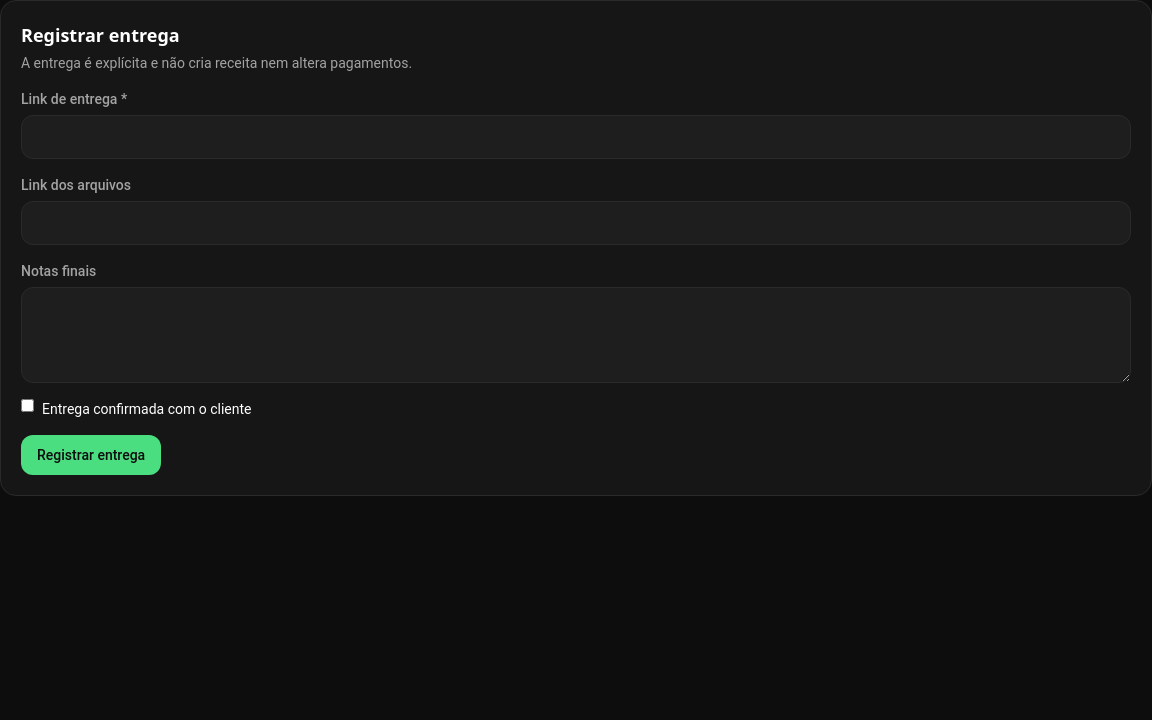
Test: ProjectDeliveryPanel › exige link de entrega e confirmação explícita
This screenshot has width=1152, height=720.
Click the button "Registrar entrega".
click(91, 455)  # box [21,435,161,475]
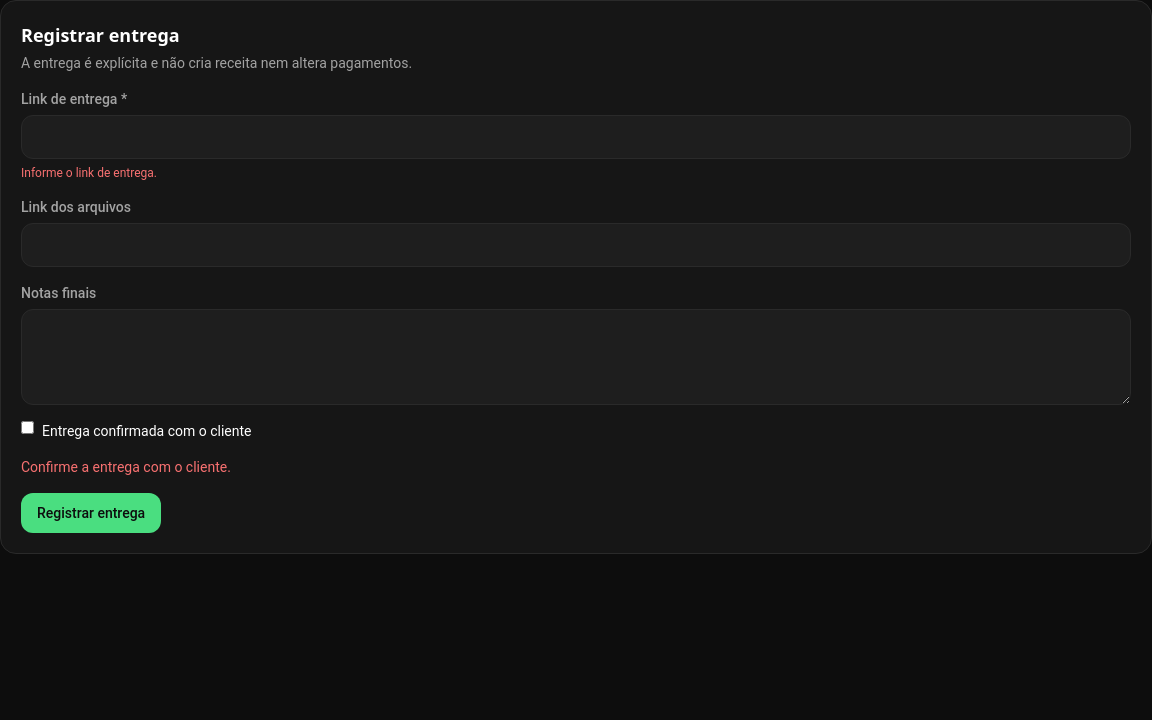
Check: the text "Informe o link de entrega." is shown, box [21,166,157,180]
